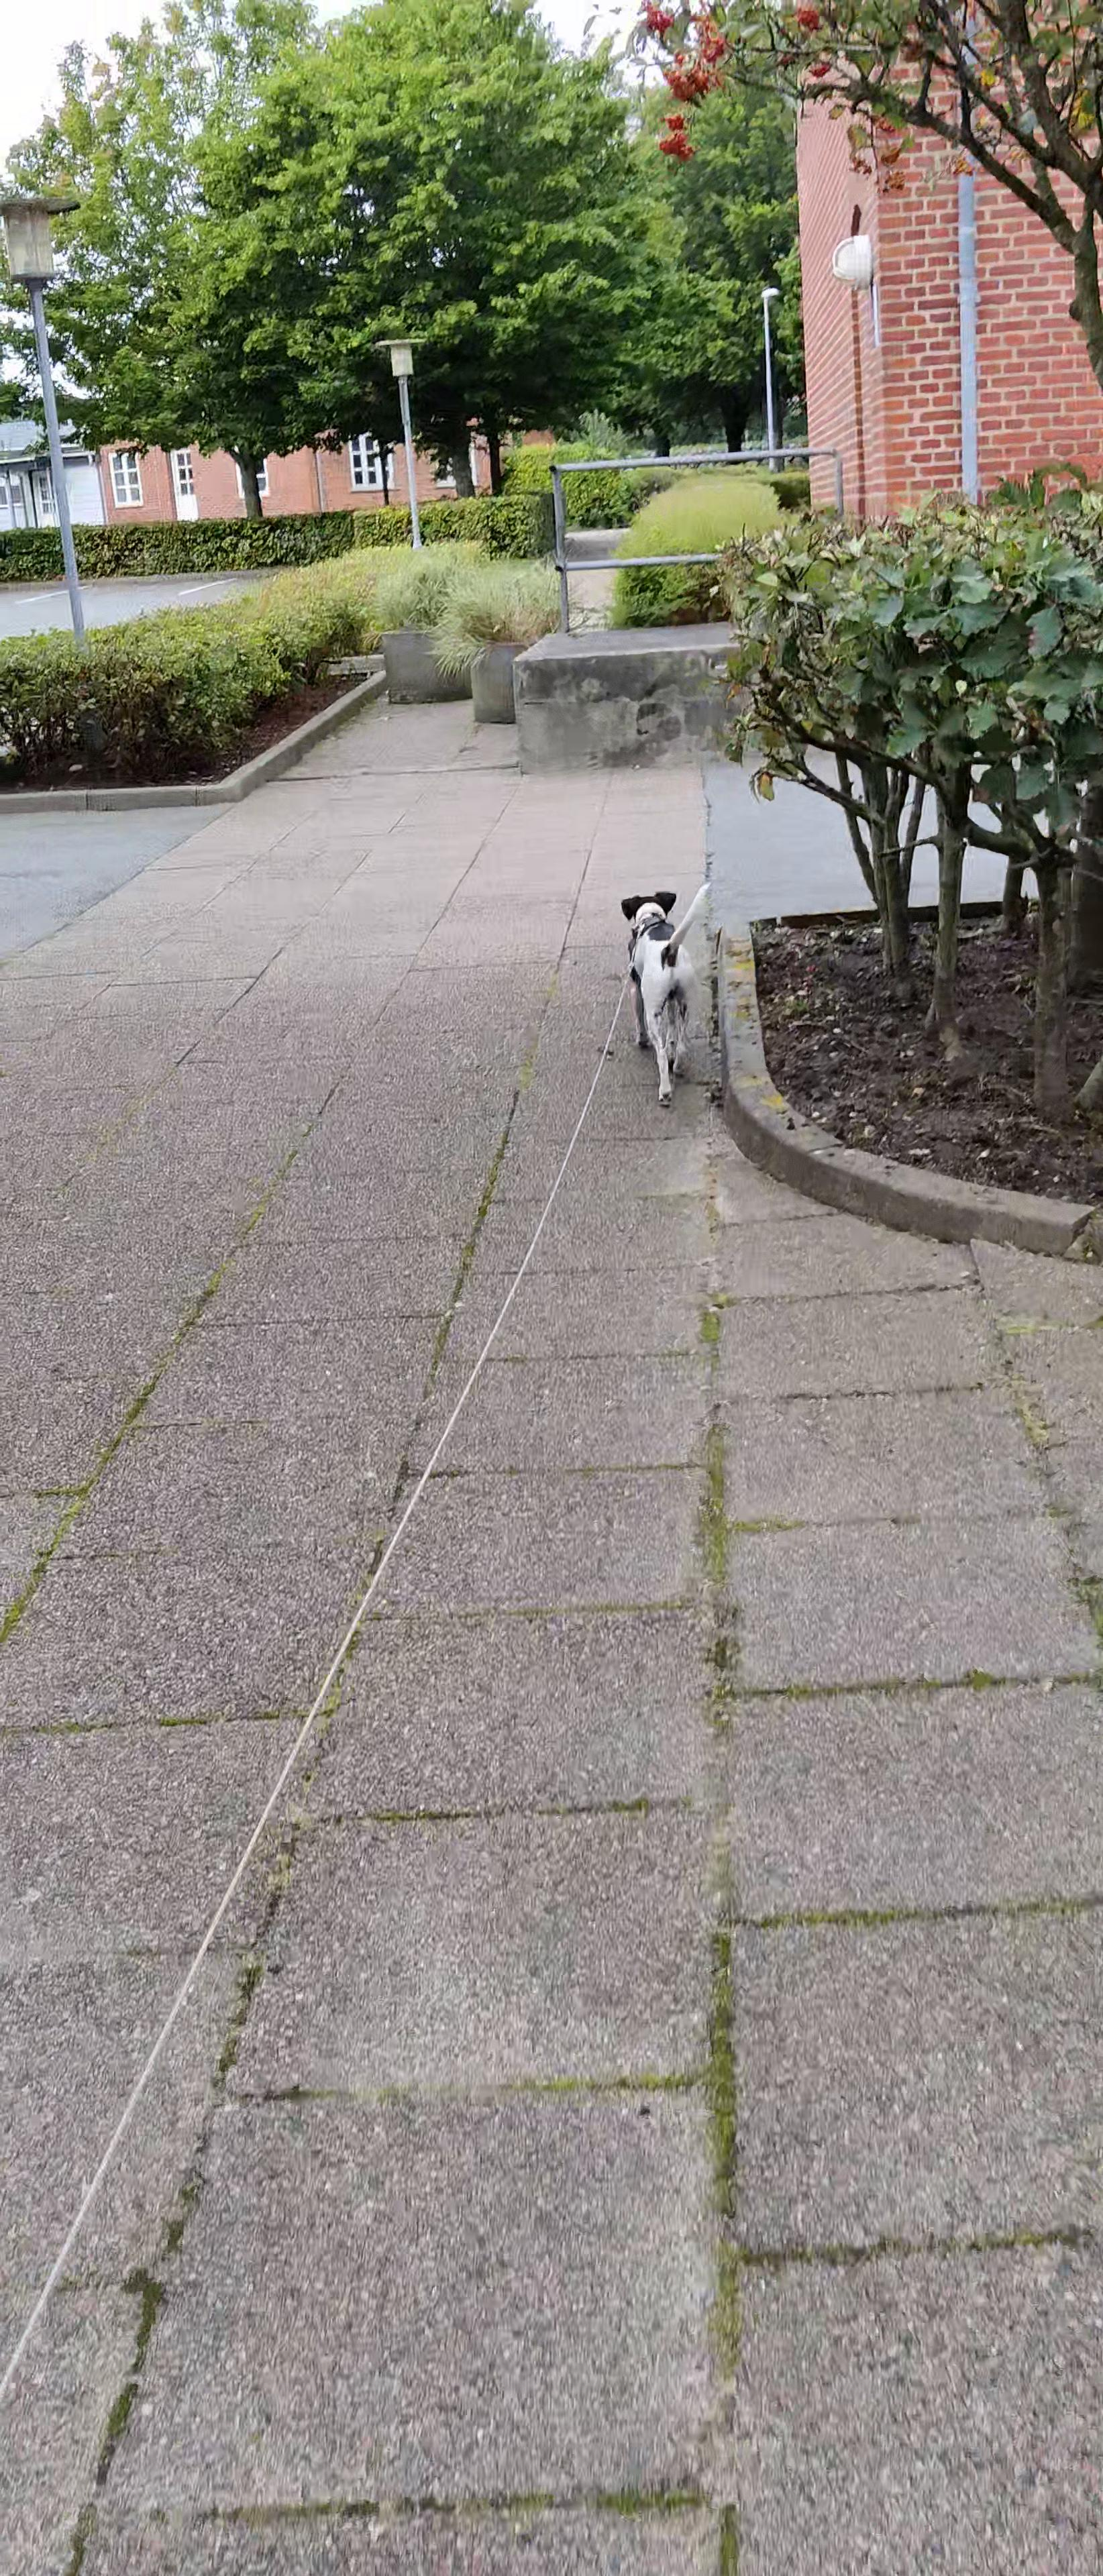Dog: (616, 874, 715, 1114)
